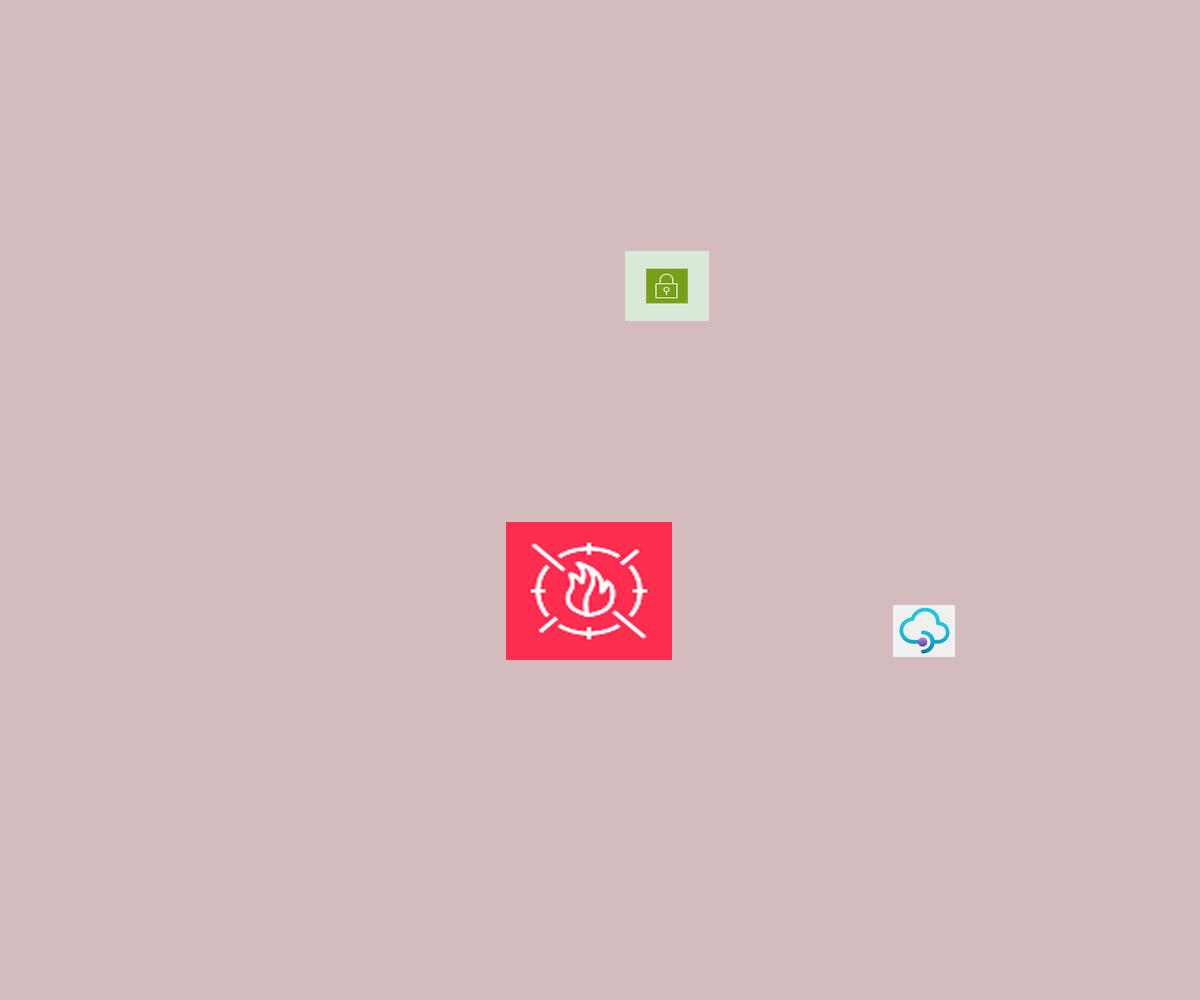AWS-Public-subnet: (625, 251, 709, 321)
AWS-WAF: (506, 522, 672, 660)
Azure_api_gateway: (893, 605, 955, 657)
